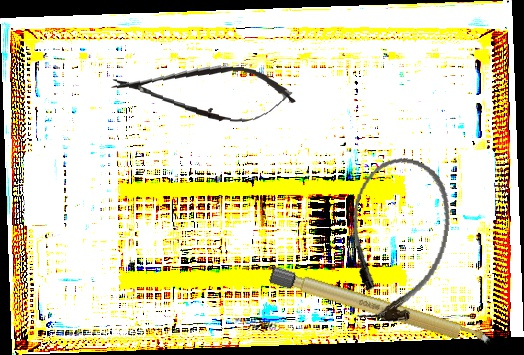Cannula: (335, 150, 460, 331)
Micro Scissor: (107, 56, 299, 128)
Scalpel Handle: (267, 265, 495, 351)
